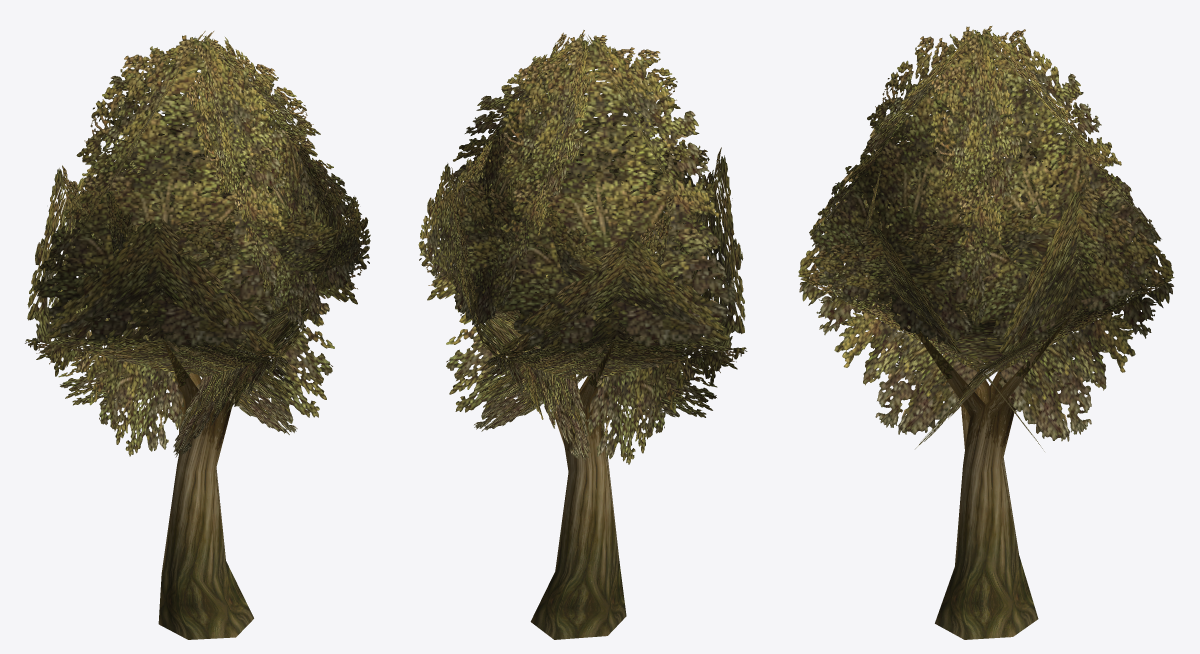
File: duskwoodtree07.obj
3 renders of one model, left to right at view 1: azimuth 30°, elevation 25°; view 2: azimuth 150°, elevation 25°; view 3: azimuth 270°, elevation 25°, orthographic.
Parts seen in each view (by area): view 1: Geoset0, Geoset1, Geoset2; view 2: Geoset0, Geoset1, Geoset2; view 3: Geoset0, Geoset1, Geoset2.
Boxes of the visible parts, bbox=[...] form: Geoset0: bbox=[25, 31, 370, 457]; Geoset1: bbox=[158, 464, 253, 639]; Geoset2: bbox=[135, 321, 292, 473]; Geoset0: bbox=[418, 30, 747, 464]; Geoset1: bbox=[530, 458, 626, 639]; Geoset2: bbox=[488, 326, 639, 471]; Geoset0: bbox=[798, 26, 1174, 451]; Geoset1: bbox=[935, 458, 1038, 639]; Geoset2: bbox=[872, 312, 1112, 473].
Size of the model in its own units: 52.67 by 82.9 by 50.97.
3 materials, 3 textured.
